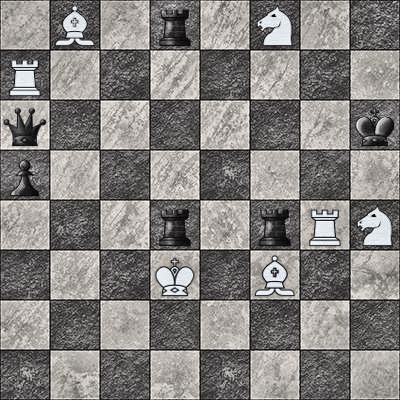black-king: (350, 100, 400, 150)
black-pawn: (0, 150, 50, 200)
black-queen: (0, 100, 50, 150)
black-rook: (150, 0, 200, 50), (150, 200, 200, 250), (250, 200, 300, 250)
white-bishop: (50, 0, 100, 50), (250, 250, 300, 300)
white-king: (150, 250, 200, 300)
white-knight: (250, 0, 300, 50), (350, 200, 400, 250)
white-rook: (0, 50, 50, 100), (300, 200, 350, 250)
